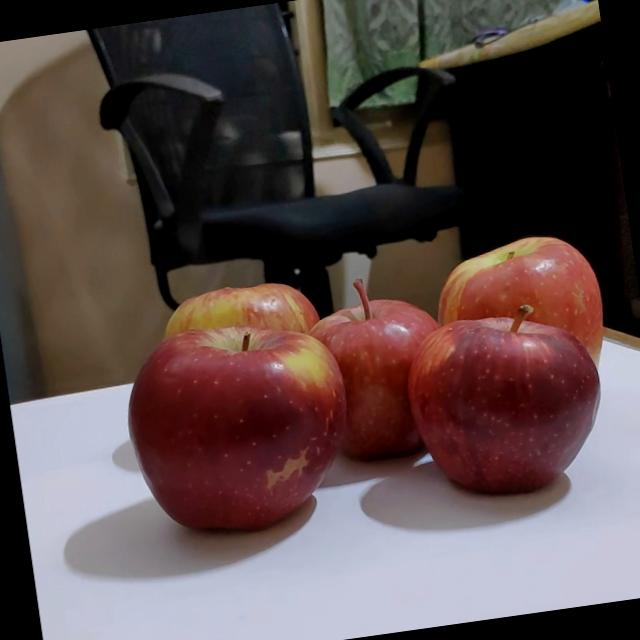apple: (113, 306, 369, 548), (402, 294, 620, 502), (296, 264, 472, 470), (423, 225, 612, 402), (145, 270, 332, 418)
